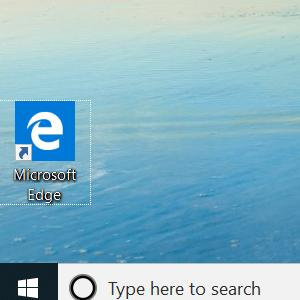edge: (15, 101, 75, 161)
